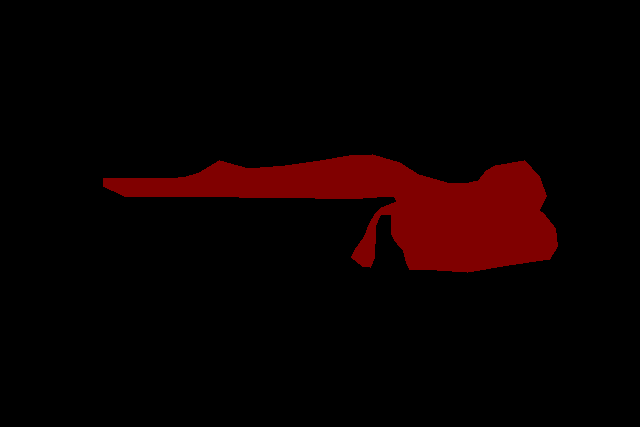fire: (103, 154, 557, 272)
